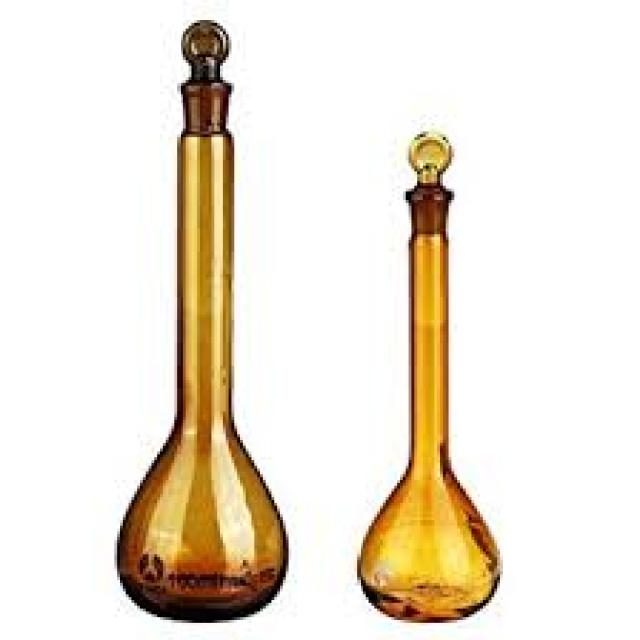glass: (111, 17, 286, 620), (357, 131, 500, 620)
